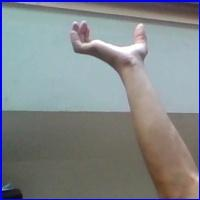space: (64, 13, 159, 72)
